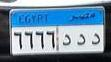6: (24, 30, 35, 51), (35, 29, 45, 50), (46, 30, 56, 49), (14, 30, 24, 49)
daal: (60, 33, 72, 48), (90, 32, 101, 47), (75, 32, 86, 47)
